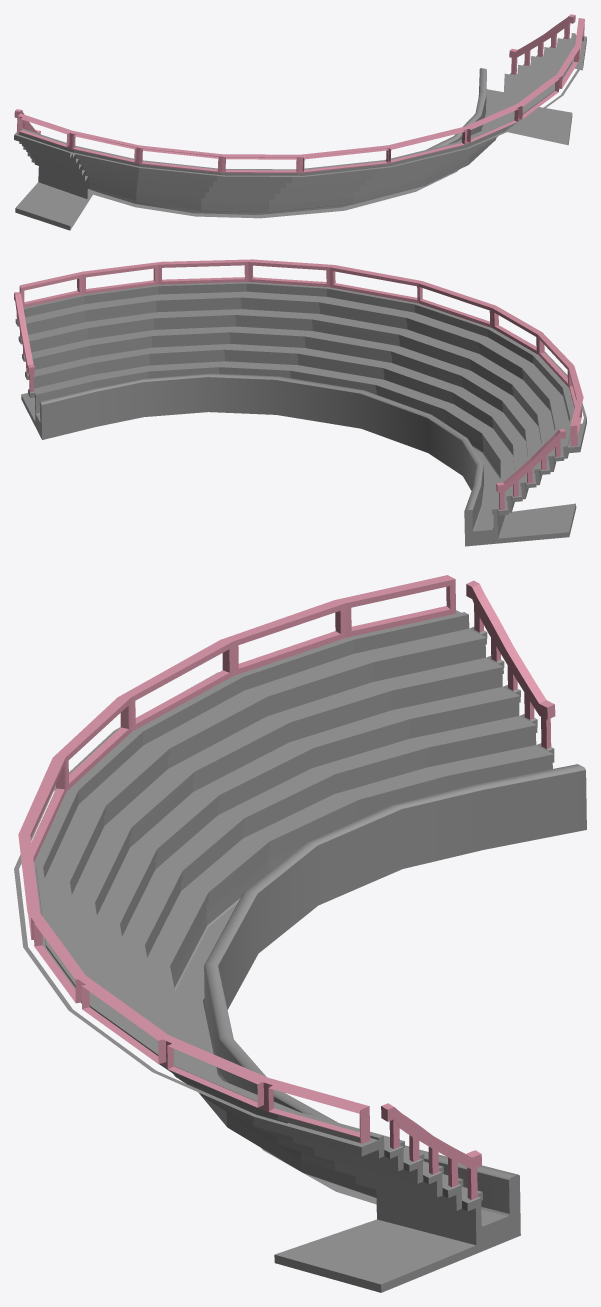
File: escalera.FBX
3 renders of one model, top to bottom at view 1: azimuth 30°, elevation 25°; view 2: azimuth 150°, elevation 25°; view 3: azimuth 270°, elevation 25°, orthographic. The views are drawn at different scales.
Parts seen in each view (by area): view 1: Escalera; view 2: Escalera; view 3: Escalera.
Part boxes in pixels (bbox=[...]): Escalera: bbox=[14, 14, 586, 230]; Escalera: bbox=[14, 259, 586, 546]; Escalera: bbox=[14, 575, 586, 1292].
Size of the model in its own units: 3213 by 667 by 1540.
